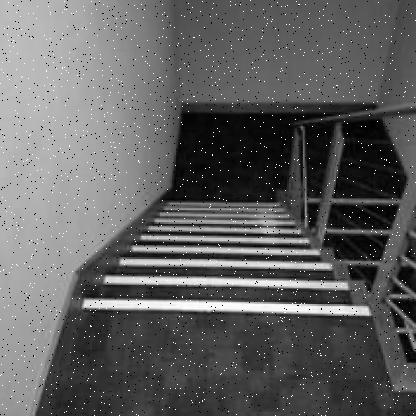stair_down: (55, 177, 379, 332)
